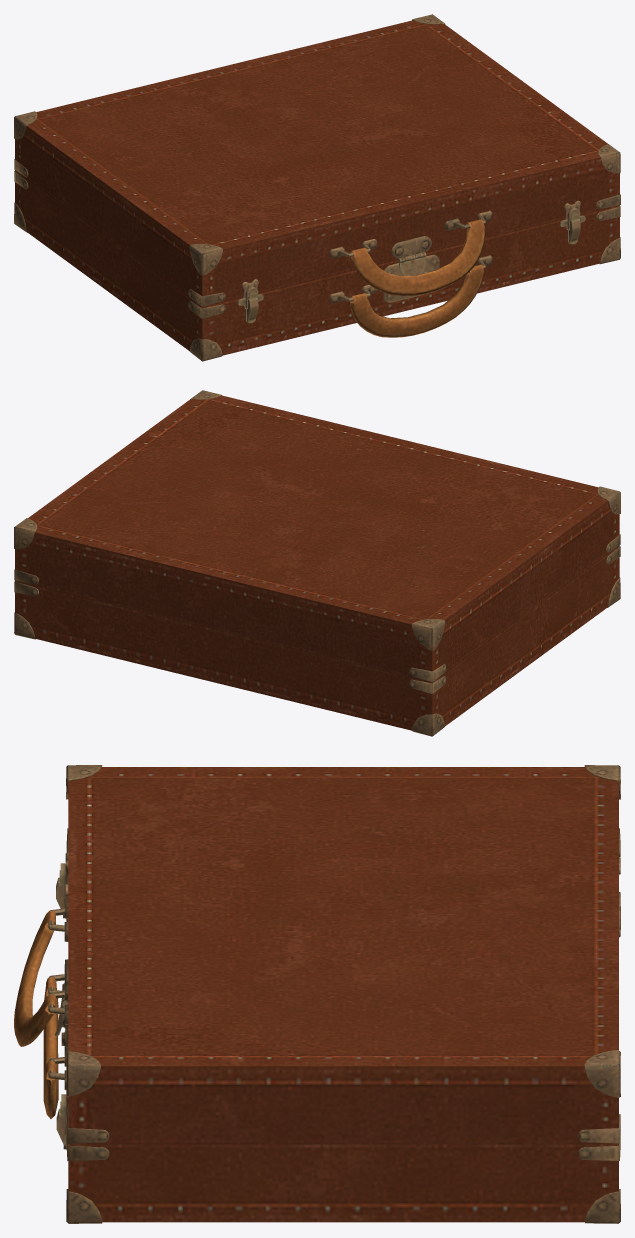
Rendered from 043_attachecase.fbx.
3 renders of one model, top to bottom at view 1: azimuth 30°, elevation 25°; view 2: azimuth 150°, elevation 25°; view 3: azimuth 270°, elevation 25°, orthographic. The views are drawn at different scales.
Parts seen in each view (by area): view 1: LOD_1_Group_0_Sub_1__sm32_043_AttacheCase01A_A_Mat; view 2: LOD_1_Group_0_Sub_1__sm32_043_AttacheCase01A_A_Mat; view 3: LOD_1_Group_0_Sub_1__sm32_043_AttacheCase01A_A_Mat.
Boxes of the visible parts, x1,y1,x2,y2 form: LOD_1_Group_0_Sub_1__sm32_043_AttacheCase01A_A_Mat: (14,14,620,361); LOD_1_Group_0_Sub_1__sm32_043_AttacheCase01A_A_Mat: (14,390,620,736); LOD_1_Group_0_Sub_1__sm32_043_AttacheCase01A_A_Mat: (14,765,620,1223).
Size of the model in its own units: 0.426 by 0.1243 by 0.3627.
